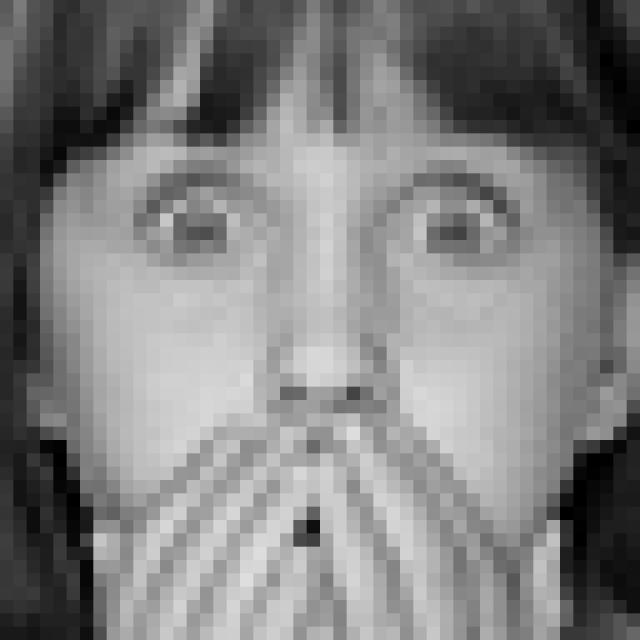fear: (97, 103, 554, 586)
